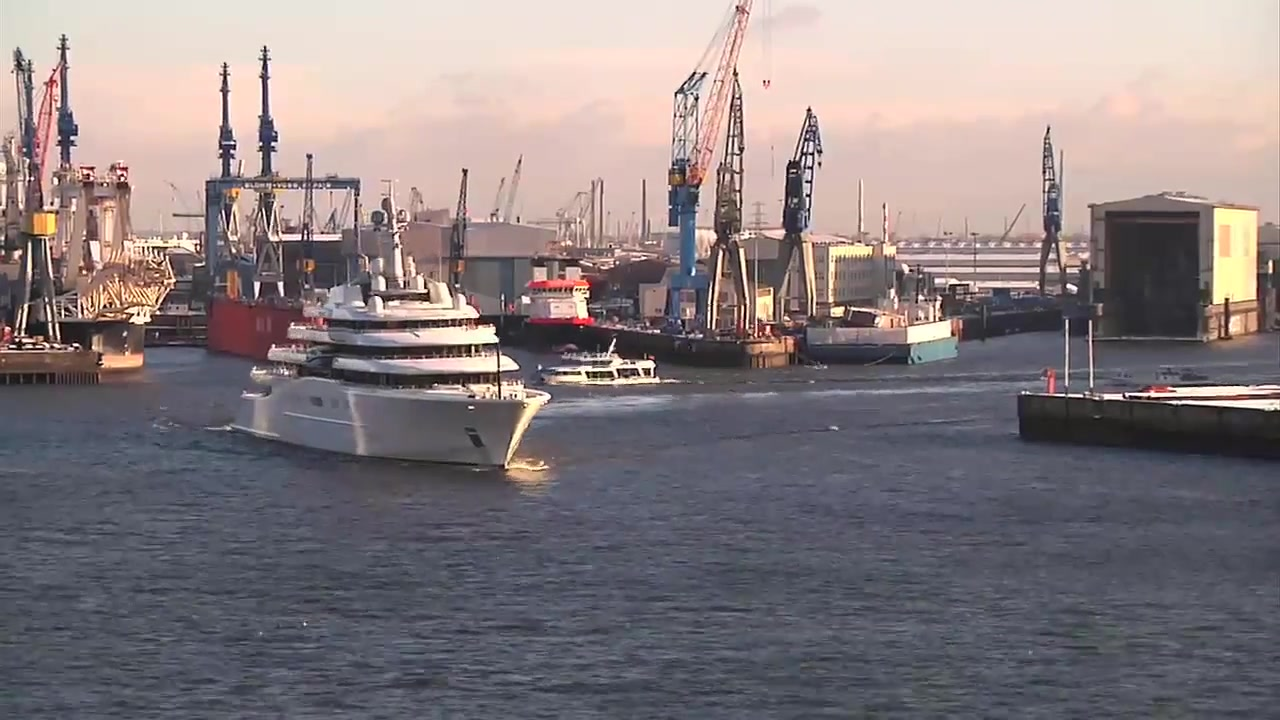boat: (227, 177, 554, 471)
